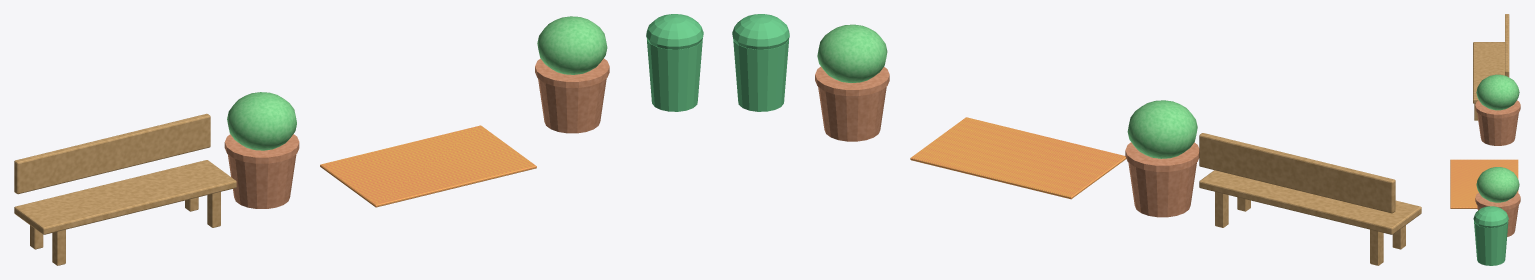
The model's file is toko_dekor_depan.fbx.
3 views of the same model, side by side, from view 1: azimuth 30°, elevation 25°; view 2: azimuth 150°, elevation 25°; view 3: azimuth 270°, elevation 25° (orthographic). The views are drawn at different scales.
Visible parts, largest first — view 1: BangkuKayu, KarpetPintu, TongSampahLuar, PotKanan, PotKiri, PotKiri_Tanaman, PotKanan_Tanaman; view 2: BangkuKayu, KarpetPintu, TongSampahLuar, PotKiri, PotKanan, PotKiri_Tanaman, PotKanan_Tanaman; view 3: KarpetPintu, TongSampahLuar, BangkuKayu, PotKiri, PotKiri_Tanaman, PotKanan_Tanaman, PotKanan.
Boxes of the visible parts, left/top/right/bottom form: BangkuKayu: left=14, top=113, right=236, bottom=265; KarpetPintu: left=320, top=125, right=536, bottom=207; TongSampahLuar: left=646, top=14, right=703, bottom=111; PotKanan: left=535, top=58, right=609, bottom=133; PotKiri: left=224, top=134, right=299, bottom=208; PotKiri_Tanaman: left=227, top=92, right=296, bottom=150; PotKanan_Tanaman: left=537, top=16, right=607, bottom=74; BangkuKayu: left=1199, top=133, right=1421, bottom=265; KarpetPintu: left=910, top=117, right=1126, bottom=199; TongSampahLuar: left=732, top=14, right=789, bottom=111; PotKiri: left=1125, top=142, right=1199, bottom=217; PotKanan: left=815, top=66, right=889, bottom=141; PotKiri_Tanaman: left=1127, top=100, right=1197, bottom=158; PotKanan_Tanaman: left=817, top=24, right=887, bottom=82; KarpetPintu: left=1450, top=159, right=1518, bottom=208; TongSampahLuar: left=1473, top=206, right=1508, bottom=265; BangkuKayu: left=1473, top=14, right=1509, bottom=120; PotKiri: left=1475, top=100, right=1520, bottom=145; PotKiri_Tanaman: left=1476, top=74, right=1519, bottom=110; PotKanan_Tanaman: left=1476, top=167, right=1519, bottom=202; PotKanan: left=1475, top=192, right=1520, bottom=236.
Bounding box in the file's own units: 2078 × 300 × 310.
7 materials, 7 textured.
